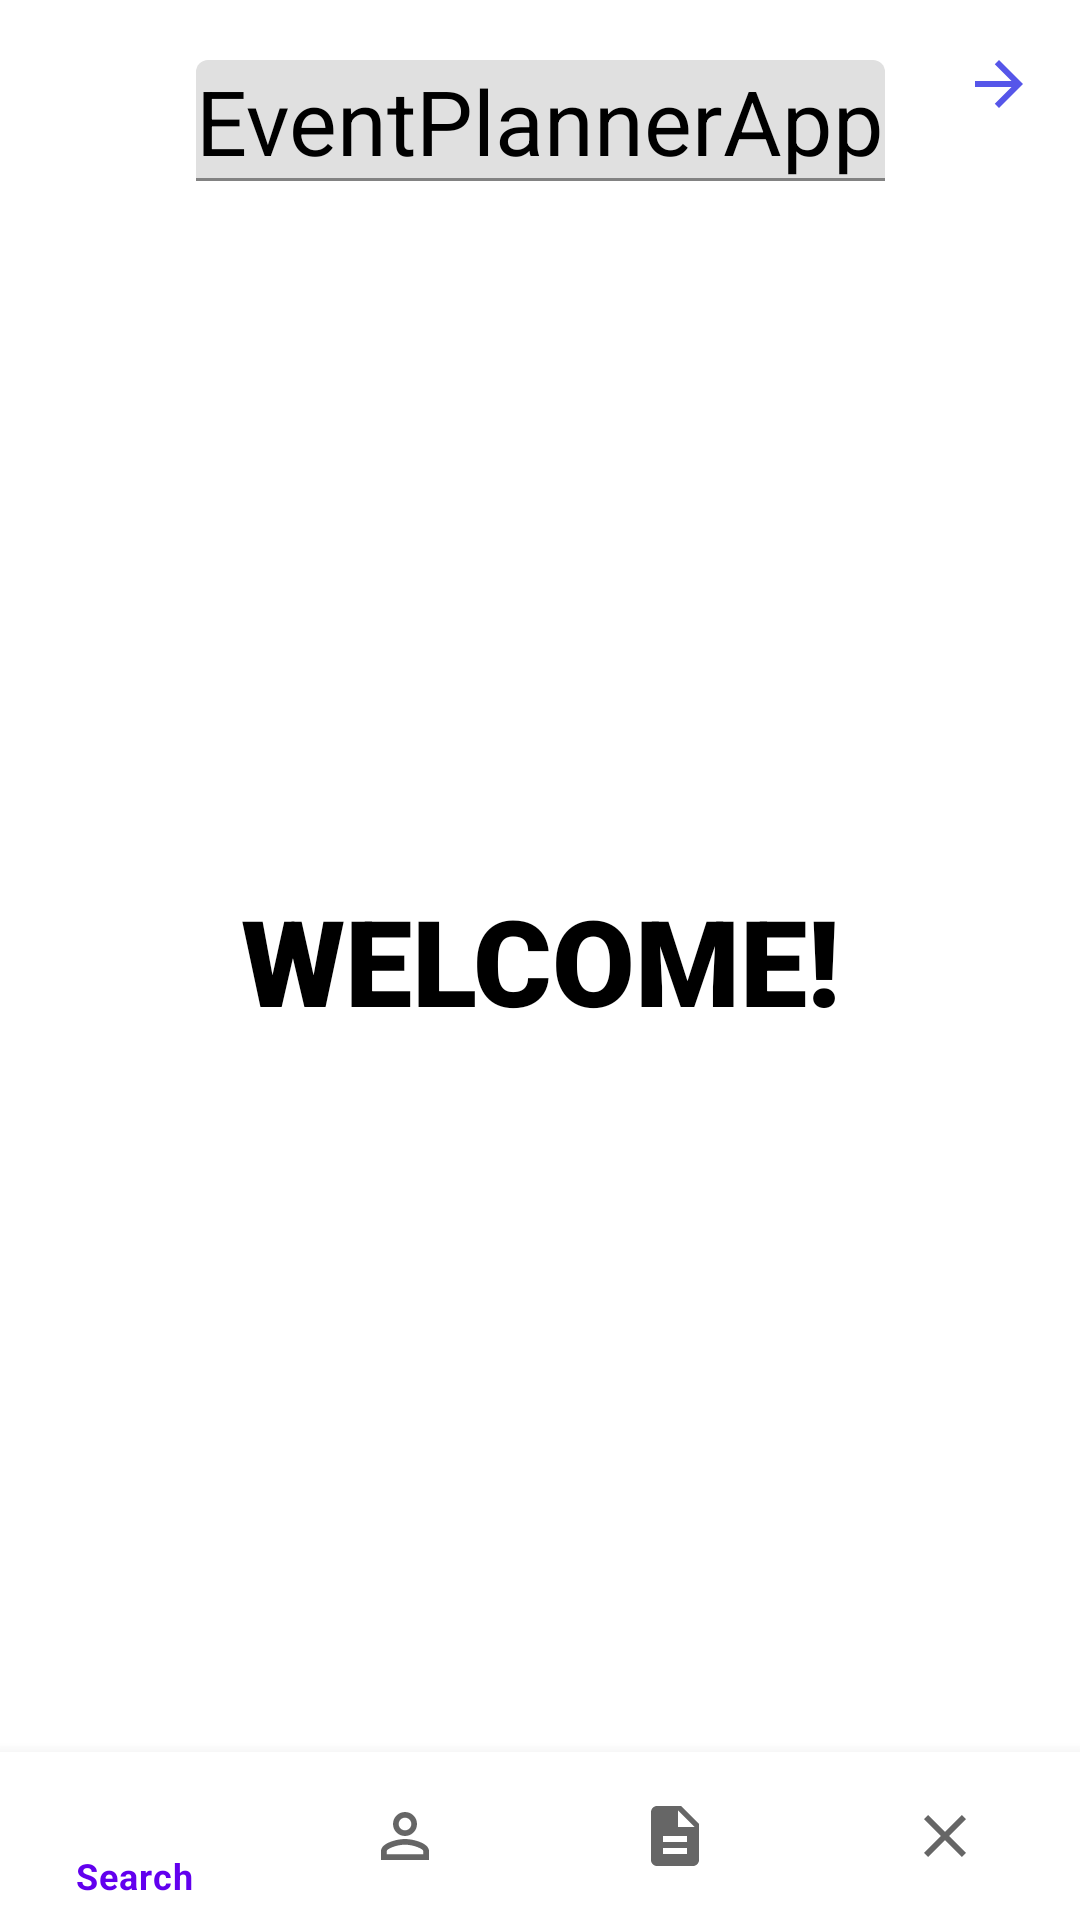

Where icons sit on this 1080*1920 app screen, as (x1, y1, x2, y2):
arrow forward: (975, 60, 1023, 108)
